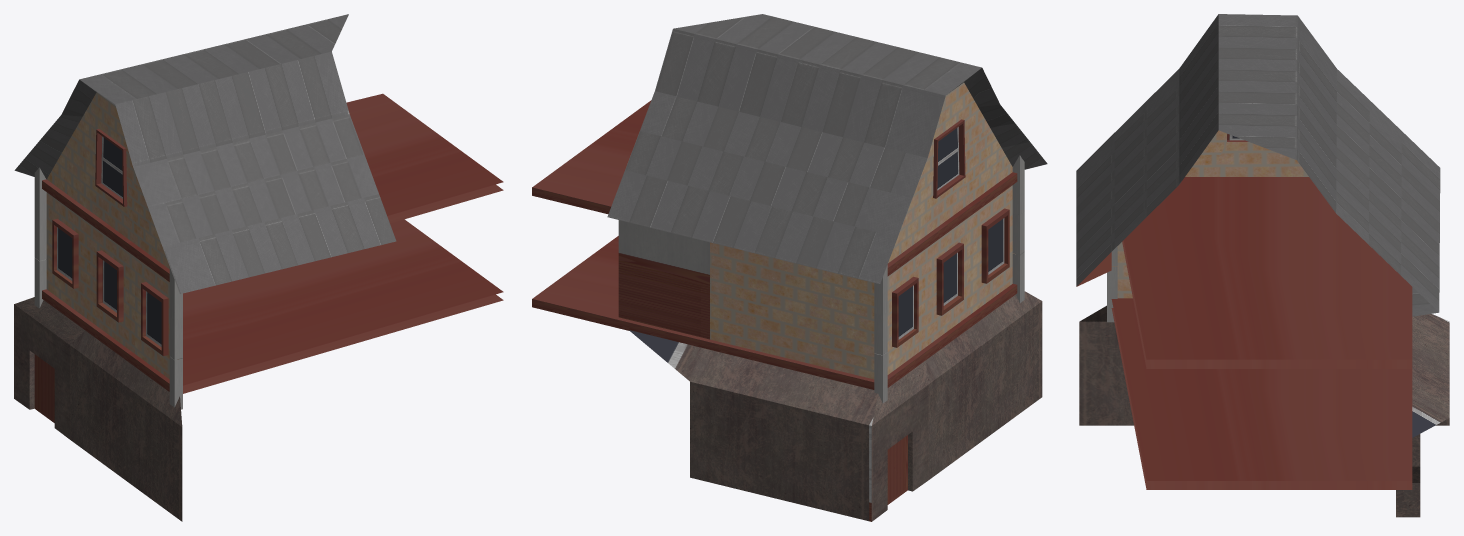
Rendered from Small A roof house.fbx.
The picture shows the model from 3 angles, left to right: view 1: azimuth 30°, elevation 25°; view 2: azimuth 150°, elevation 25°; view 3: azimuth 270°, elevation 25°; orthographic projection. The views are drawn at different scales.
Parts seen in each view (by area): view 1: Cube.008; view 2: Cube.008; view 3: Cube.008.
Part boxes in pixels (bbox=[...]): Cube.008: bbox=[14, 14, 503, 521]; Cube.008: bbox=[532, 14, 1047, 521]; Cube.008: bbox=[1076, 14, 1449, 517].
Size of the model in its own units: 8504 by 8500 by 7026.
